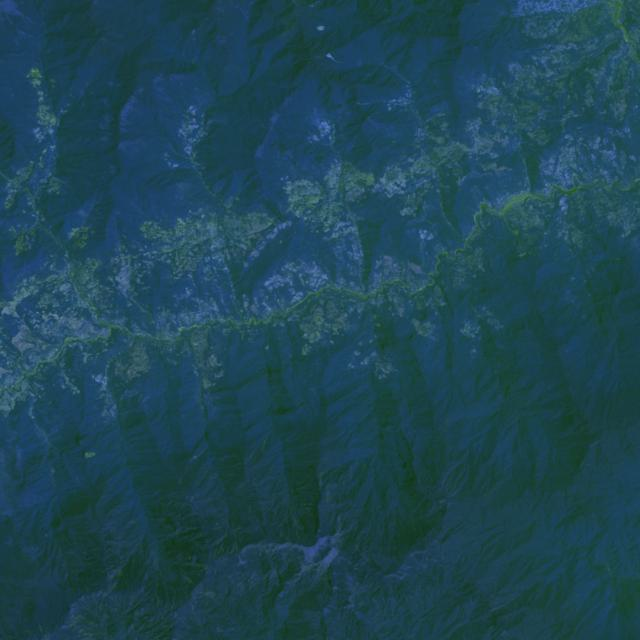landslides: (177, 572, 198, 588), (259, 430, 274, 451), (85, 448, 105, 458), (271, 175, 292, 184), (264, 299, 275, 315), (190, 451, 205, 462), (169, 161, 187, 169)
